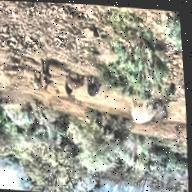boar: (126, 90, 160, 133), (64, 67, 93, 92), (38, 61, 54, 92), (84, 77, 99, 102), (65, 88, 70, 99)
